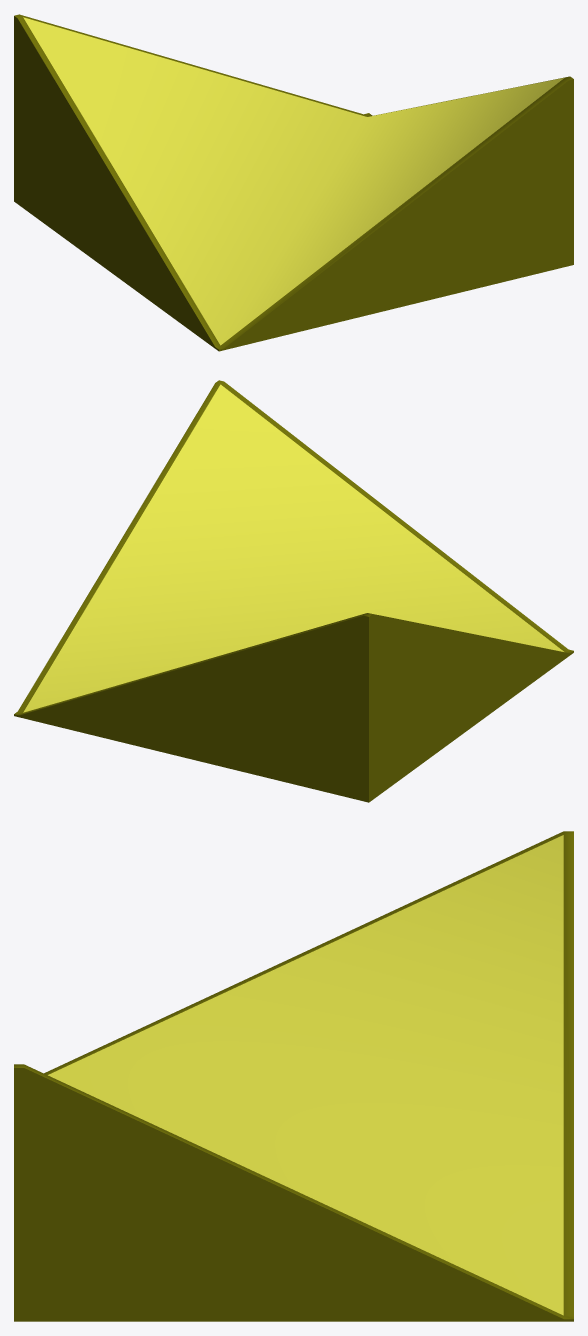
Rendered from Casilla 19.fbx.
3 renders of one model, top to bottom at view 1: azimuth 30°, elevation 25°; view 2: azimuth 150°, elevation 25°; view 3: azimuth 270°, elevation 25°, orthographic. The views are drawn at different scales.
Parts seen in each view (by area): view 1: pCube7; view 2: pCube7; view 3: pCube7.
Boxes of the visible parts, box(x1,y1,x2,y2) form: pCube7: box(14, 14, 573, 351); pCube7: box(14, 380, 573, 802); pCube7: box(14, 831, 573, 1321).
Bounding box in the file's own units: 200 × 100 × 200.
